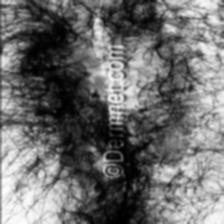Toxin: (120, 0, 192, 192), (40, 19, 102, 189)
